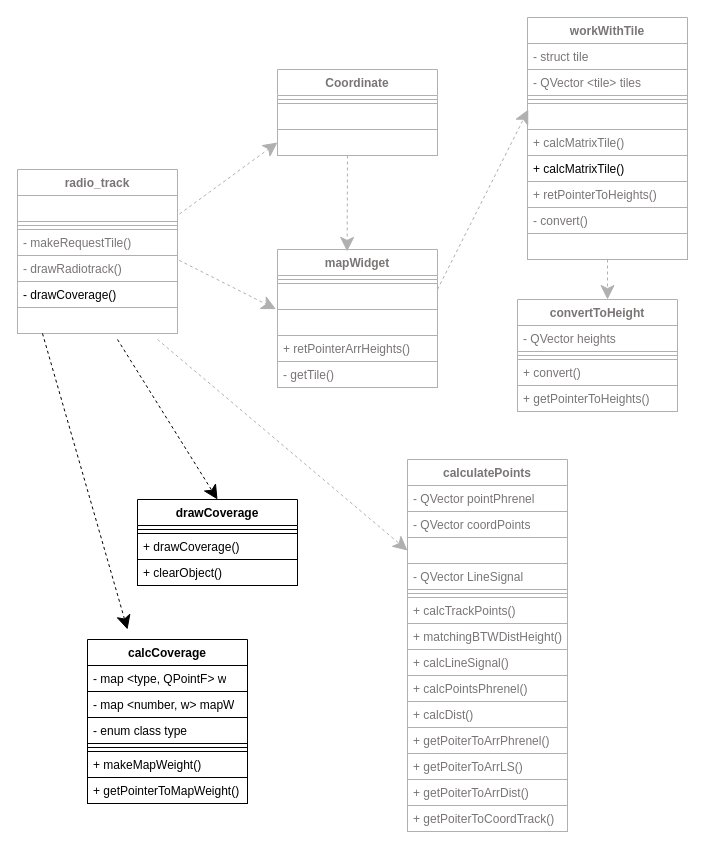
Image size: 705x852. Some labels were removed from this diagram. Here are the shapes that lost their labels. From the top down, the centre of each, then its label:
the point at 357,116: + getCoordFromPoint()
the point at 607,116: + getPointerToTiles()
the point at 357,142: + degRad()
the point at 97,208: - double coordB, coordE
the point at 607,246: - calcPosTile()
the point at 357,296: + requestTile()
the point at 97,320: - getArrayHeights()
the point at 357,322: + retPointerArrTile()
the point at 487,550: - QVector distance
